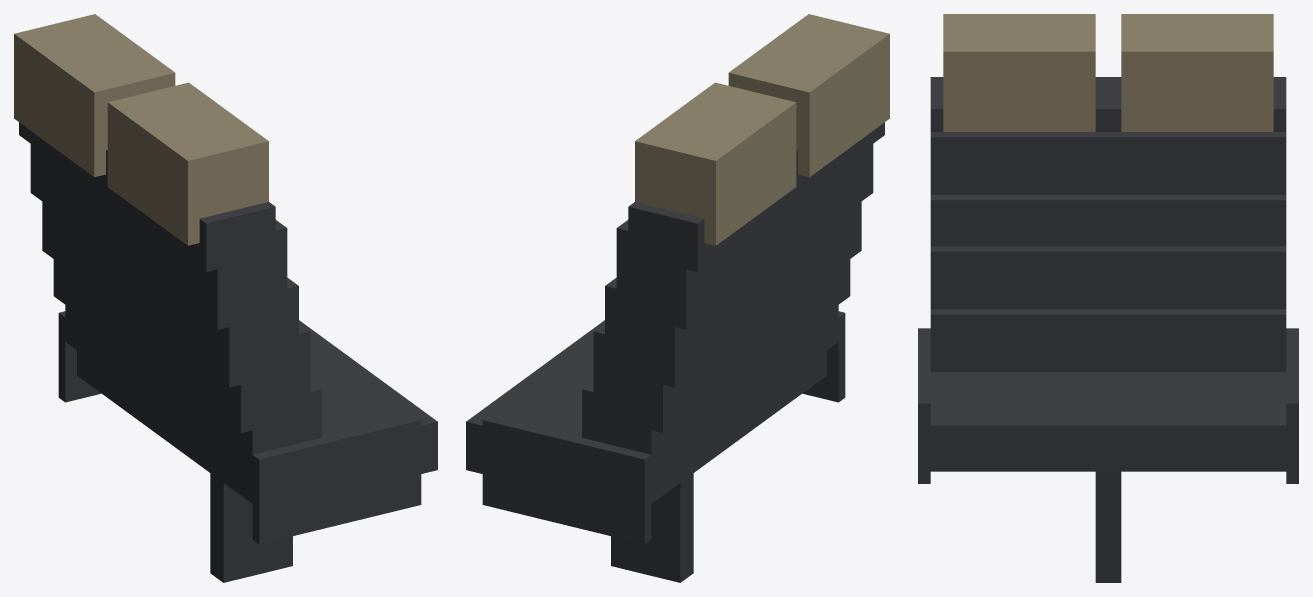
Rendered from bus_seat_coach.glb.
3 renders of one model, left to right at view 1: azimuth 30°, elevation 25°; view 2: azimuth 150°, elevation 25°; view 3: azimuth 270°, elevation 25°, orthographic. The views are drawn at different scales.
Visible parts, largest first — view 1: body:compound; view 2: body:compound; view 3: body:compound.
Part boxes in pixels (x1,y1,x2,y2): body:compound: (14,14,437,582); body:compound: (466,14,889,582); body:compound: (918,14,1298,582).
Size of the model in its own units: 0.6562 by 1.31 by 0.9375.
